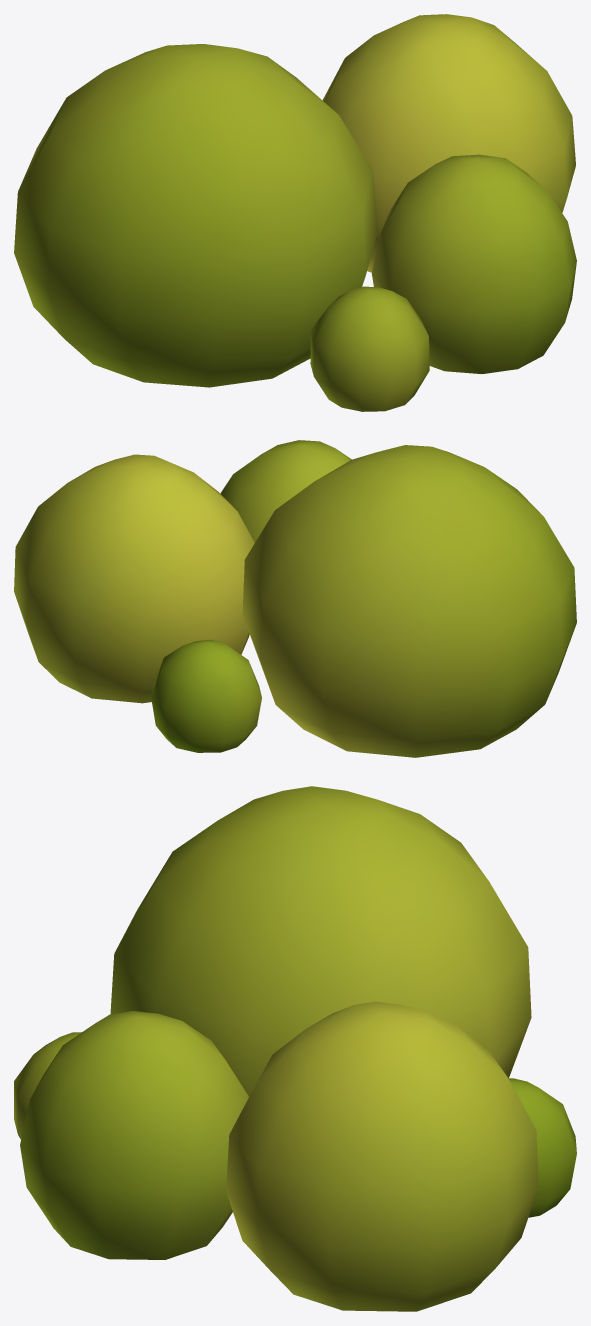
Rendered from SM_Bush_02.fbx.
The picture shows the model from 3 angles, top to bottom: view 1: azimuth 30°, elevation 25°; view 2: azimuth 150°, elevation 25°; view 3: azimuth 270°, elevation 25°; orthographic projection. The views are drawn at different scales.
Parts seen in each view (by area): view 1: SM_Bush_02; view 2: SM_Bush_02; view 3: SM_Bush_02.
Part boxes in pixels (<box>): SM_Bush_02: <box>14,14,576,411</box>; SM_Bush_02: <box>14,440,576,757</box>; SM_Bush_02: <box>14,786,576,1311</box>.
Size of the model in its own units: 315 by 154 by 248.
